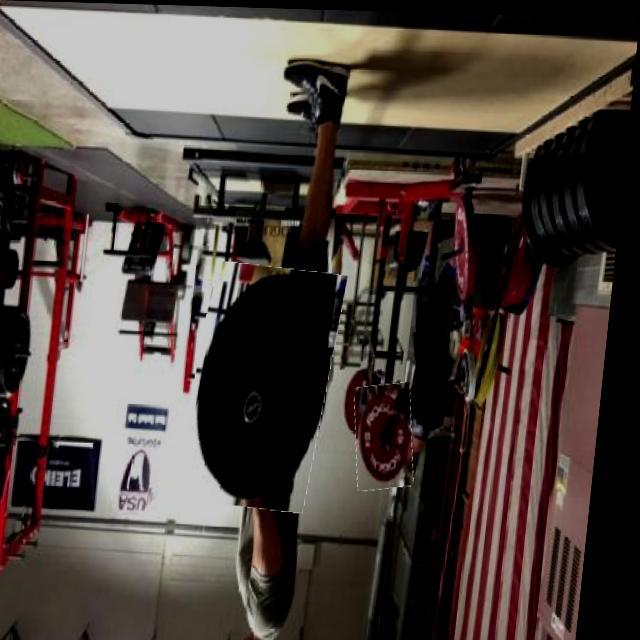barbell: (188, 263, 350, 510), (359, 381, 429, 489)
